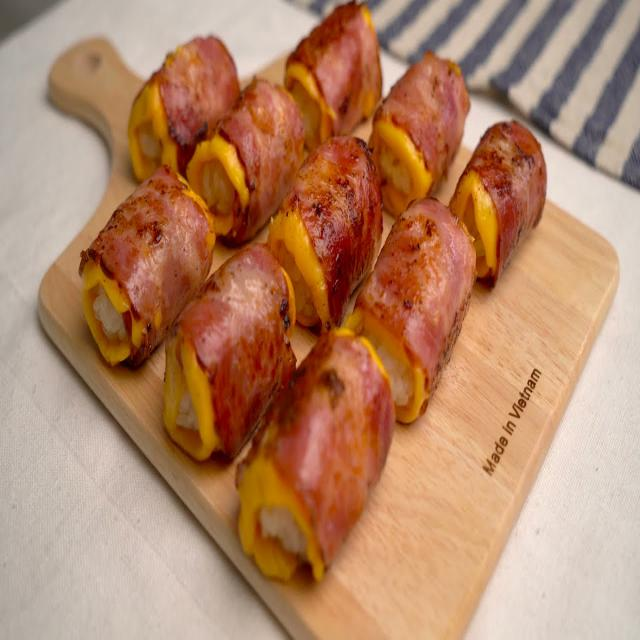Bacon Slice: (80, 167, 395, 565), (154, 36, 382, 325), (360, 197, 476, 393), (374, 51, 470, 189), (465, 120, 548, 278), (295, 1, 382, 132)
